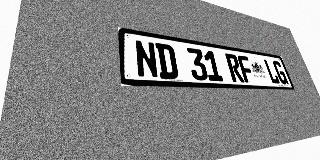1: (202, 50, 223, 81)
3: (186, 47, 209, 81)
D: (155, 43, 179, 79)
F: (237, 55, 256, 83)
G: (272, 60, 289, 84)
L: (263, 59, 281, 84)
N: (134, 39, 159, 78)
R: (225, 53, 245, 82)
